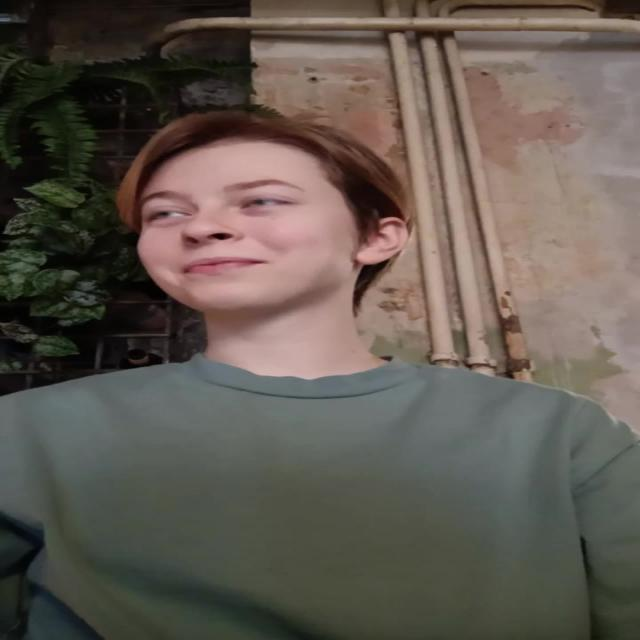earlobe: (355, 247, 386, 265)
eye: (240, 195, 296, 211), (144, 210, 191, 222)
nose: (184, 238, 243, 258)
wholeear: (354, 217, 408, 265)
